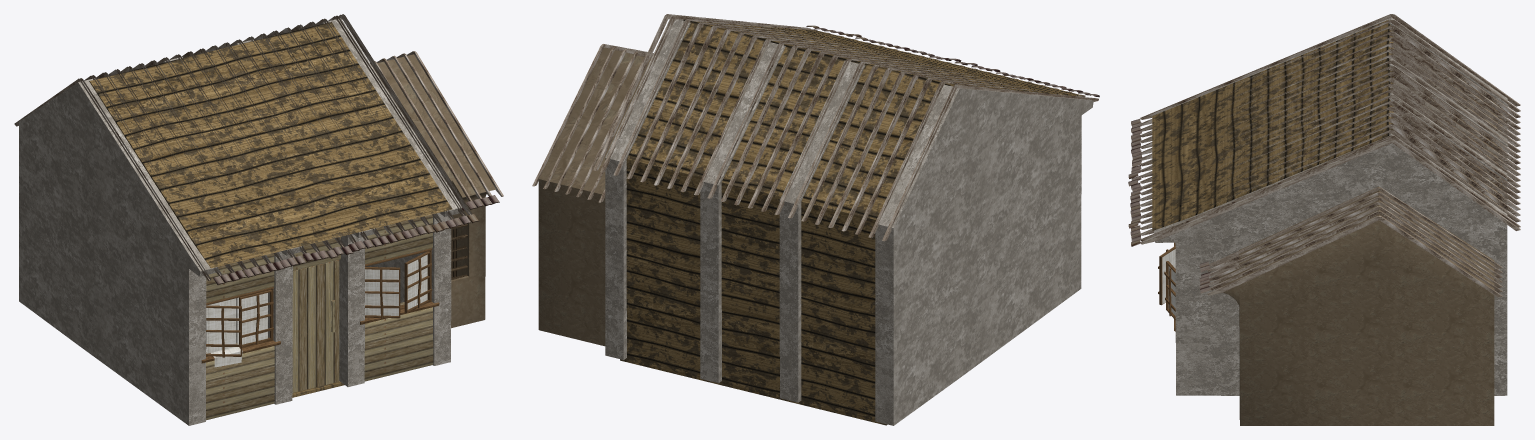
The model's file is house2_LOD1.FBX.
The picture shows the model from 3 angles, left to right: view 1: azimuth 30°, elevation 25°; view 2: azimuth 150°, elevation 25°; view 3: azimuth 270°, elevation 25°; orthographic projection. The views are drawn at different scales.
Parts seen in each view (by area): view 1: sidewalls01, backwall01, beam03, frontwalls01, side_building01, doors01, curtain01, roof_tiles06, windows2, windows03, window01, windowframe02; view 2: sidewalls01, backwall01, beam03, side_building01, roof_tiles06; view 3: side_building01, beam03, backwall01, sidewalls01, roof_tiles06, curtain01, windows2.
Part boxes in pixels (bbox=[...]): sidewalls01: bbox=[19, 18, 462, 425]; backwall01: bbox=[89, 22, 452, 397]; beam03: bbox=[14, 14, 503, 280]; frontwalls01: bbox=[206, 214, 433, 420]; side_building01: bbox=[371, 54, 495, 328]; doors01: bbox=[292, 260, 339, 392]; curtain01: bbox=[206, 254, 427, 367]; roof_tiles06: bbox=[213, 195, 499, 285]; windows2: bbox=[206, 250, 431, 356]; windows03: bbox=[206, 258, 432, 357]; window01: bbox=[451, 224, 467, 279]; windowframe02: bbox=[201, 287, 280, 363]; sidewalls01: bbox=[605, 18, 1093, 425]; backwall01: bbox=[620, 19, 1082, 425]; beam03: bbox=[532, 14, 1098, 241]; side_building01: bbox=[538, 47, 650, 346]; roof_tiles06: bbox=[806, 25, 1099, 97]; side_building01: bbox=[1219, 186, 1494, 425]; beam03: bbox=[1140, 14, 1520, 297]; backwall01: bbox=[1152, 20, 1502, 230]; sidewalls01: bbox=[1154, 17, 1507, 395]; roof_tiles06: bbox=[1128, 119, 1210, 293]; curtain01: bbox=[1162, 249, 1175, 315]; windows2: bbox=[1159, 246, 1175, 319].
Size of what is drawn, in the model's own units: 752 by 584 by 791.
